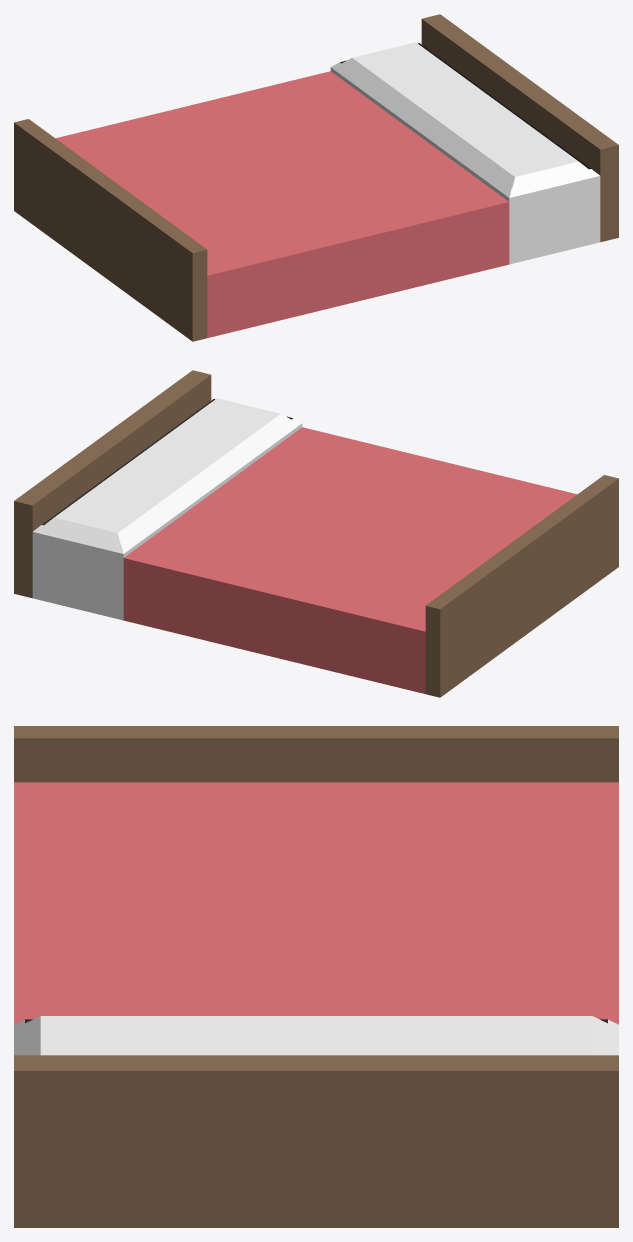
The model's file is BED.fbx.
3 renders of one model, top to bottom at view 1: azimuth 30°, elevation 25°; view 2: azimuth 150°, elevation 25°; view 3: azimuth 270°, elevation 25°, orthographic. The views are drawn at different scales.
Visible parts, largest first — view 1: Plane; view 2: Plane; view 3: Plane.
Part boxes in pixels (<box>): Plane: <box>14,14,618,341</box>; Plane: <box>14,370,618,697</box>; Plane: <box>14,726,618,1227</box>.
Bounding box in the file's own units: 275 × 57.27 × 200.
